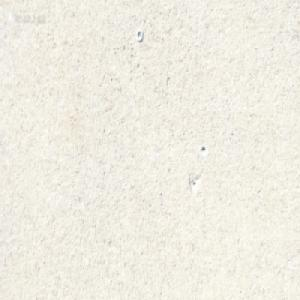Washer: (135, 28, 142, 41)
